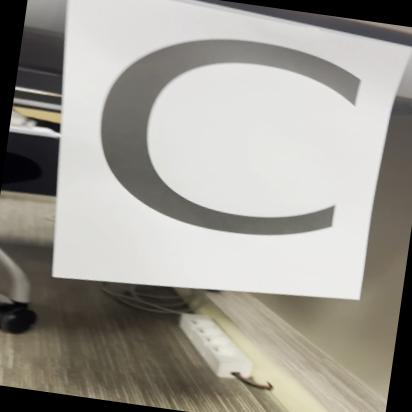seat: (47, 0, 388, 296)
